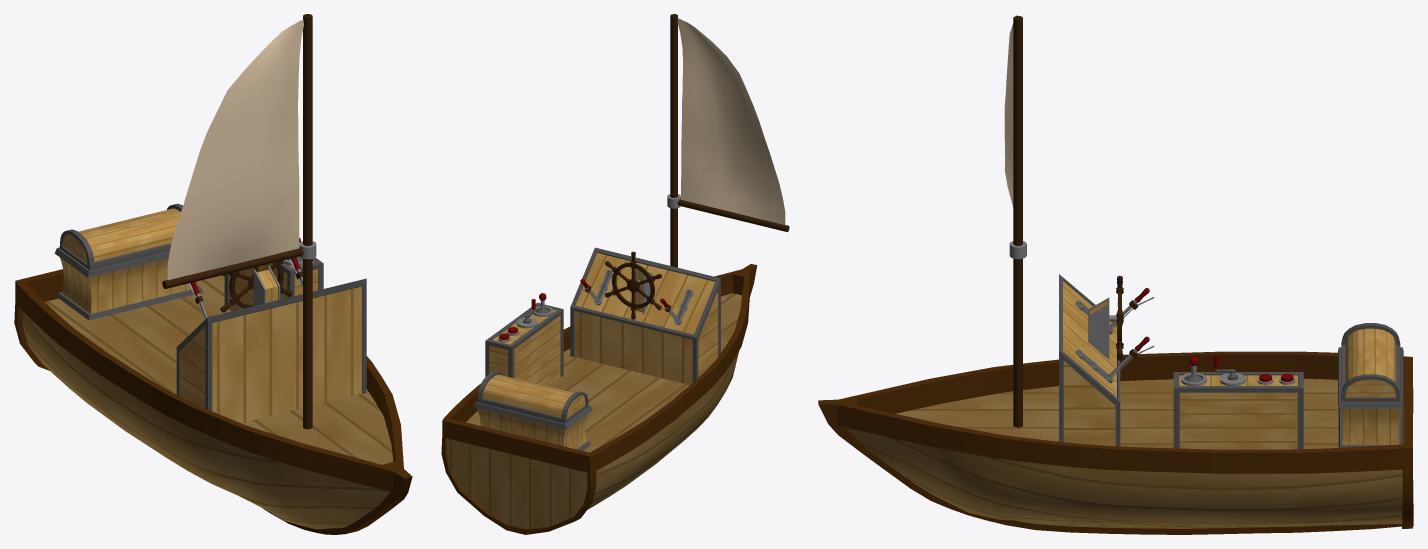
The model's file is Ship.fbx.
The picture shows the model from 3 angles, left to right: view 1: azimuth 30°, elevation 25°; view 2: azimuth 150°, elevation 25°; view 3: azimuth 270°, elevation 25°; orthographic projection. The views are drawn at different scales.
Parts seen in each view (by area): view 1: Boat_Base, SailCloth, Console, ChestBase, ChestLid, Pole, Console1, Pole1, Wheel, WheelBase; view 2: Boat_Base, Console, SailCloth, Console1, ChestLid, ChestBase, Pole, Wheel, Pole1, WheelBase; view 3: Boat_Base, Console1, Console, ChestLid, Pole, ChestBase, SailCloth, WheelBase.
Part boxes in pixels (box(x1,y1,x2,y2)): Boat_Base: box(14, 269, 412, 534); SailCloth: box(167, 19, 303, 280); Console: box(176, 278, 366, 422); ChestBase: box(54, 247, 203, 320); ChestLid: box(59, 203, 182, 270); Pole: box(303, 14, 312, 429); Console1: box(224, 257, 323, 311); Pole1: box(162, 247, 303, 288); Wheel: box(220, 260, 292, 312); WheelBase: box(254, 266, 280, 305); Boat_Base: box(441, 264, 757, 534); Console: box(570, 247, 720, 384); SailCloth: box(677, 18, 785, 224); Console1: box(485, 302, 563, 386); ChestLid: box(477, 371, 588, 423); ChestBase: box(473, 401, 592, 450); Pole: box(670, 14, 677, 267); Wheel: box(605, 251, 661, 319); Pole1: box(677, 199, 789, 231); WheelBase: box(631, 268, 652, 314); Boat_Base: box(818, 351, 1413, 534); Console1: box(1173, 372, 1303, 449); Console: box(1059, 274, 1120, 446); ChestLid: box(1341, 323, 1400, 401); Pole: box(1013, 16, 1022, 427); ChestBase: box(1338, 347, 1403, 447); SailCloth: box(1004, 15, 1017, 207); WheelBase: box(1088, 297, 1109, 359).
Bounding box in the file's own units: 29.56 × 58.65 × 61.98.
